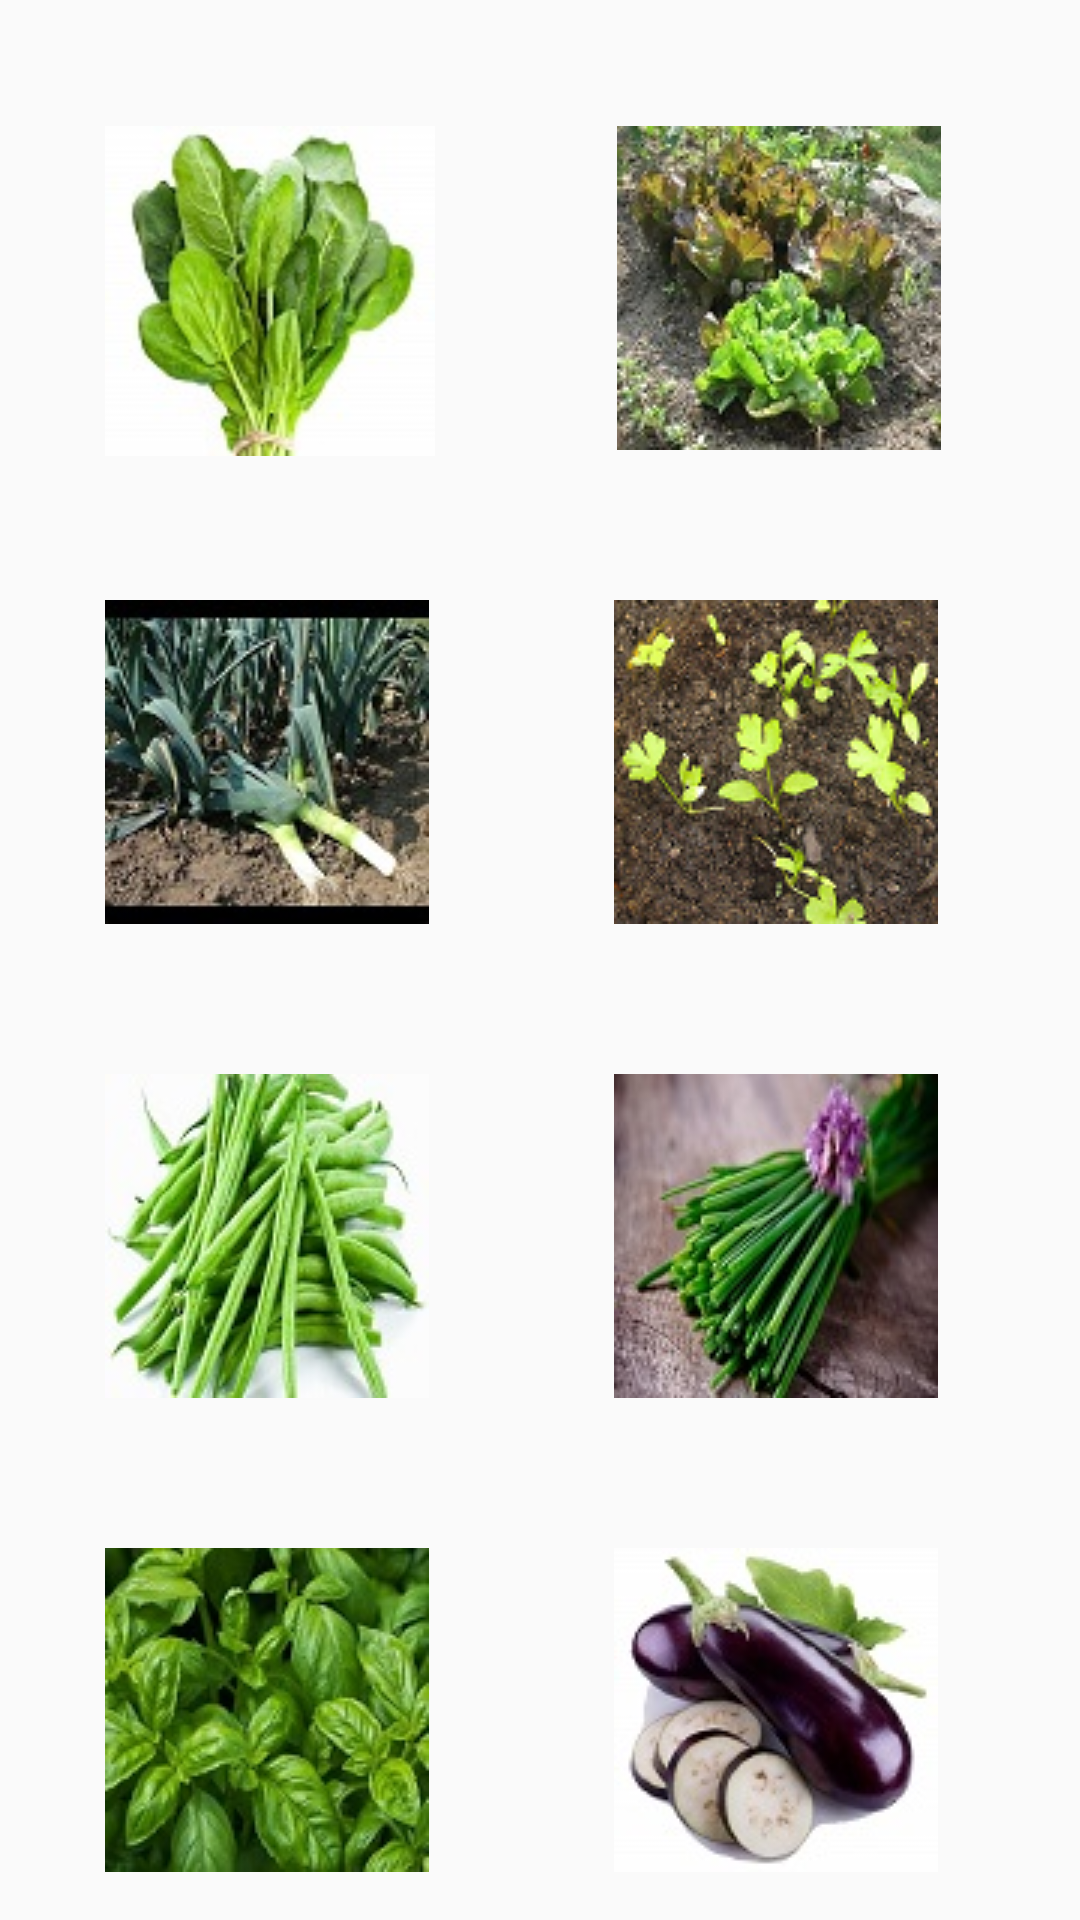

Where icons sit on this 1080*1920 app screen, as (x1, y1, x2, y2):
aubergine: (628, 1556, 927, 1864)
basilic: (105, 1548, 429, 1872)
ciboulette: (614, 1074, 938, 1398)
epinard: (131, 134, 417, 456)
haricot vert: (109, 1074, 425, 1398)
persil: (614, 600, 938, 924)
poireau: (105, 600, 429, 924)
salade: (617, 126, 941, 450)
